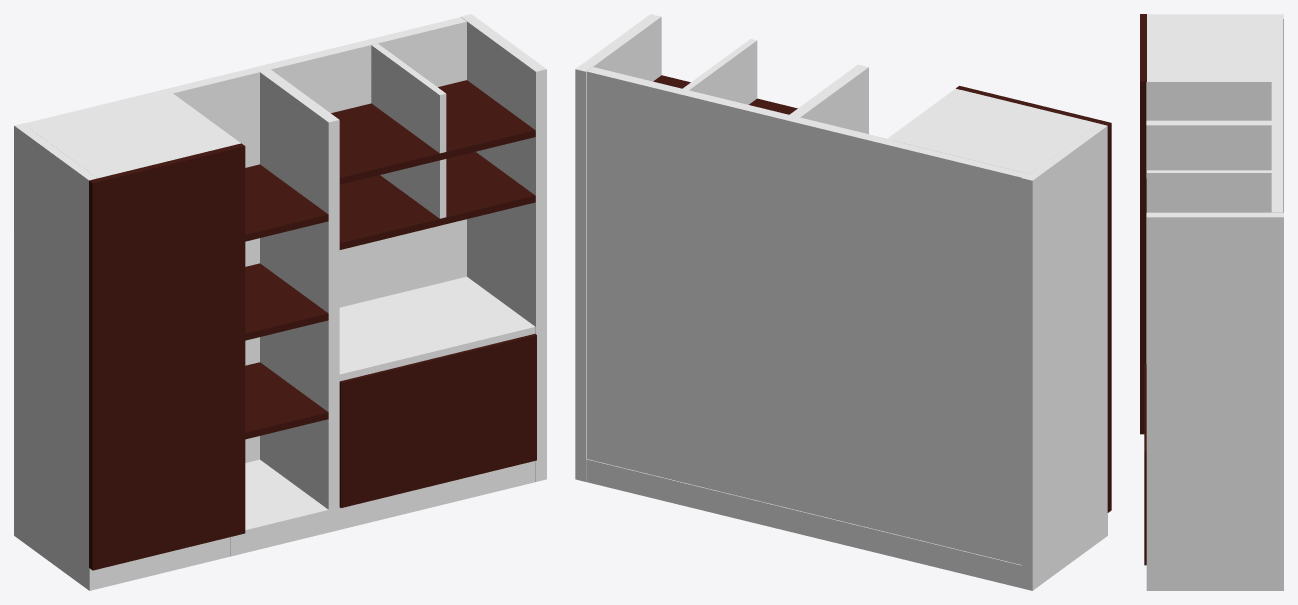
The picture shows the model from 3 angles, left to right: view 1: azimuth 30°, elevation 25°; view 2: azimuth 150°, elevation 25°; view 3: azimuth 270°, elevation 25°; orthographic projection. The views are drawn at different scales.
Visible parts, largest first — view 1: Cube.016, Cube.004, Cube.006, Cube, Cube.003, Cube.017, Cube.018, Cube.002, Cube.007, Cube.009, Cube.013, Cube.008 (+5 smaller); view 2: Cube, Cube.004, Cube.002, Cube.013, Cube.003, Cube.006, Cube.011, Cube.016; view 3: Cube.003, Cube.013, Cube.006, Cube.011, Cube.005, Cube.016, Cube, Cube.004, Cube.018.
Part boxes in pixels (left/top/right/bottom): Cube.016: left=89, top=143, right=245, bottom=570; Cube.004: left=14, top=123, right=100, bottom=590; Cube.006: left=260, top=69, right=339, bottom=532; Cube: left=26, top=17, right=466, bottom=462; Cube.003: left=461, top=14, right=546, bottom=481; Cube.017: left=339, top=357, right=438, bottom=507; Cube.018: left=437, top=334, right=536, bottom=484; Cube.002: left=100, top=459, right=535, bottom=588; Cube.007: left=339, top=276, right=535, bottom=381; Cube.009: left=331, top=80, right=535, bottom=184; Cube.013: left=29, top=94, right=234, bottom=178; Cube.008: left=339, top=151, right=535, bottom=249; Cube: left=587, top=67, right=1027, bottom=564; Cube.004: left=1021, top=123, right=1107, bottom=590; Cube.002: left=586, top=459, right=1021, bottom=588; Cube.013: left=893, top=90, right=1098, bottom=173; Cube.003: left=575, top=14, right=661, bottom=481; Cube.006: left=789, top=64, right=868, bottom=134; Cube.011: left=682, top=39, right=757, bottom=104; Cube.016: left=956, top=86, right=1111, bottom=512; Cube.003: left=1146, top=212, right=1283, bottom=590; Cube.013: left=1147, top=18, right=1272, bottom=78; Cube.006: left=1146, top=120, right=1271, bottom=363; Cube.011: left=1147, top=170, right=1271, bottom=212; Cube.005: left=1146, top=79, right=1271, bottom=120; Cube.016: left=1140, top=14, right=1146, bottom=434; Cube: left=1271, top=19, right=1282, bottom=212; Cube.004: left=1147, top=14, right=1283, bottom=212; Cube.018: left=1144, top=407, right=1146, bottom=565.
Size of what is drawn, in the model's own units: 2.1 by 1.8 by 0.6282.
